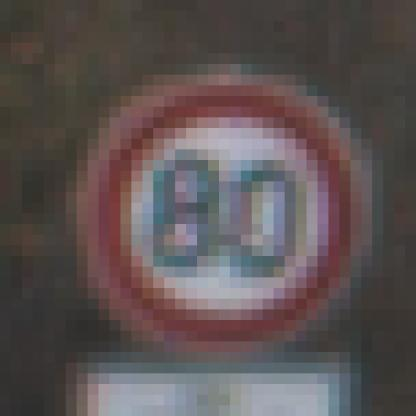Speed Limit 80: (90, 80, 361, 350)
